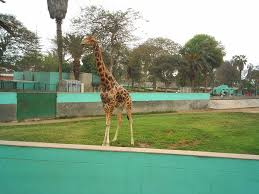Jirafa: (75, 31, 127, 93)
